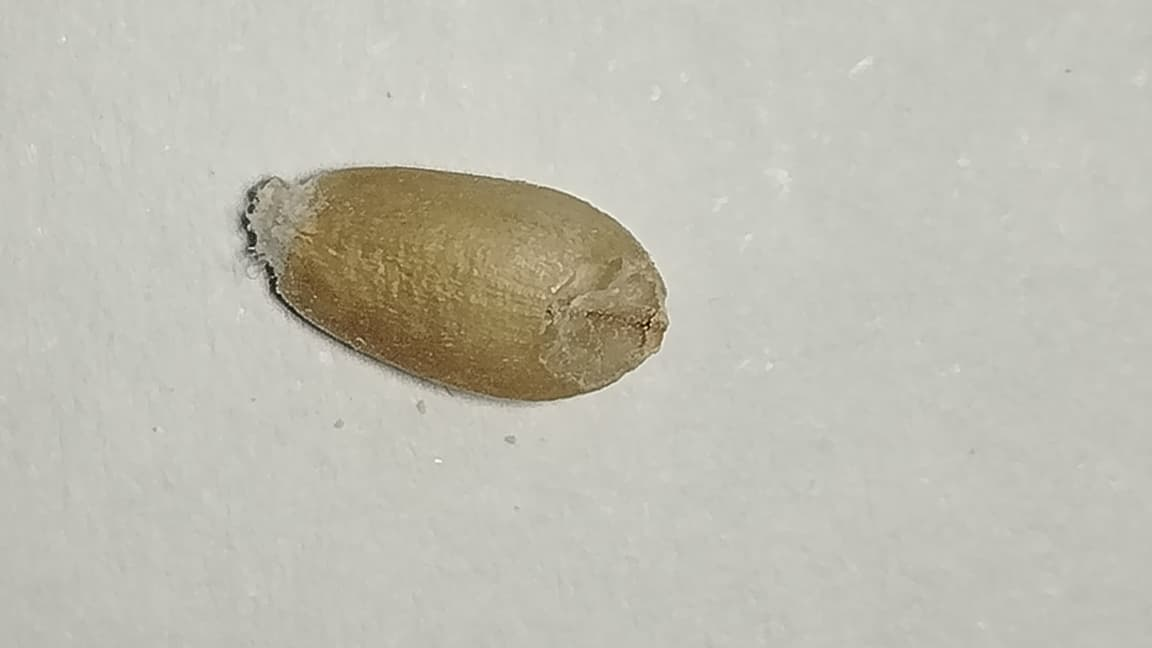damage: (246, 165, 667, 402)
insectdamage: (498, 239, 670, 405)
